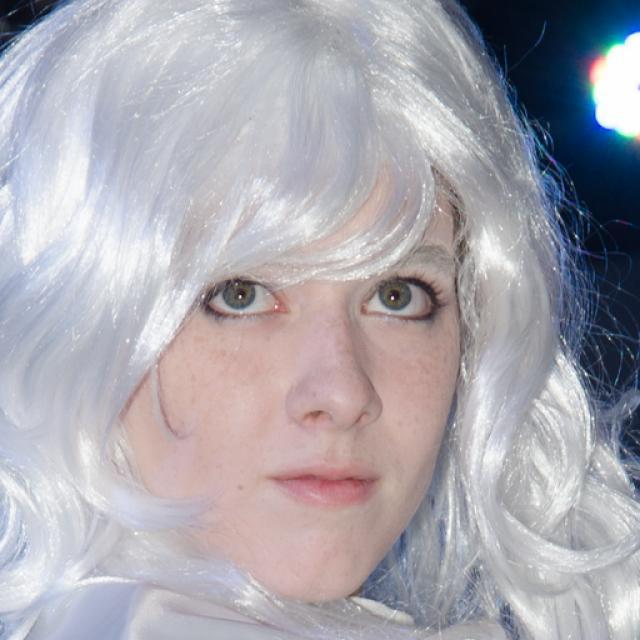neutral: (116, 125, 464, 606)
